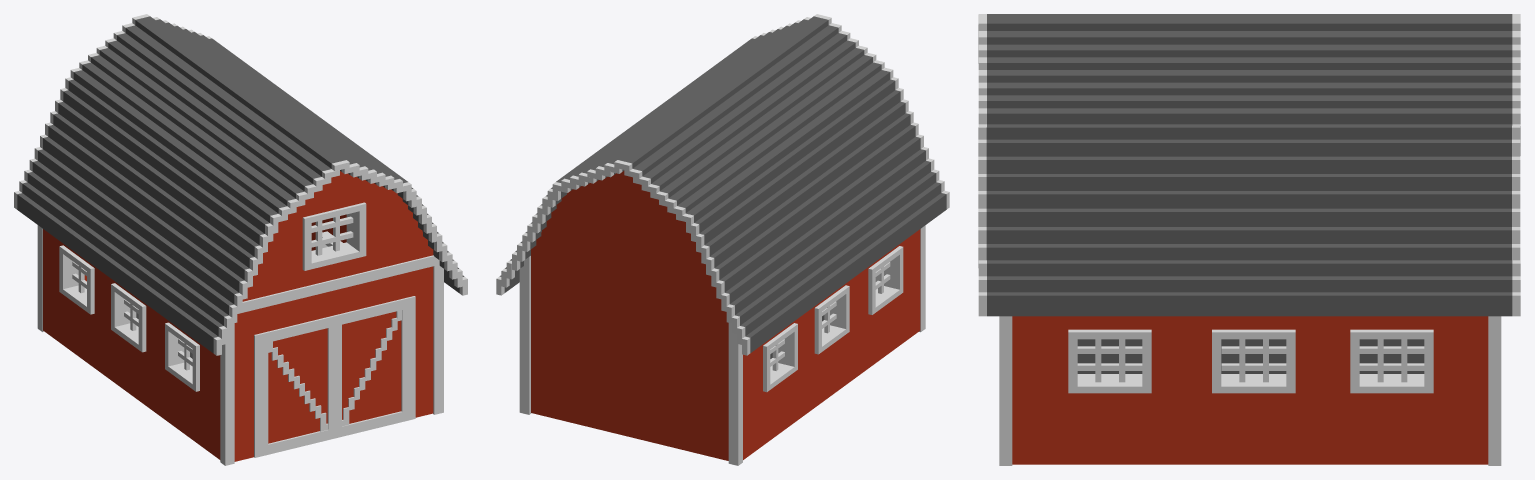
3 renders of one model, left to right at view 1: azimuth 30°, elevation 25°; view 2: azimuth 150°, elevation 25°; view 3: azimuth 270°, elevation 25°, orthographic. The views are drawn at different scales.
Visible parts, largest first — view 1: Plane.011, Cube.066, Plane.003, Cube.038, Cube.019, Cube.021, Cube.020, Cube.022, Cube.026, Cube.025, Cube.024, Cube.035 (+26 smaller); view 2: Plane.002, Cube.066, Cube.038, Cube.019, Cube.021, Cube.020, Cube.026, Cube.022, Cube.025, Cube.024, Cube.035, Cube.023 (+23 smaller); view 3: Cube.046, Cube.039, Cube.014, Cube.015, Cube.004, Cube.005, Cube.012, Cube.013, Cube.003, Cube.019, Cube.040, Cube.041 (+15 smaller).
Boxes of the visible parts, x1,y1,x2,y2 form: Plane.011: [234, 171, 433, 461]; Cube.066: [43, 229, 220, 459]; Plane.003: [254, 296, 415, 457]; Cube.038: [14, 191, 221, 355]; Cube.019: [132, 14, 349, 170]; Cube.021: [40, 134, 247, 299]; Cube.020: [45, 122, 252, 287]; Cube.022: [34, 147, 242, 311]; Cube.026: [55, 99, 262, 264]; Cube.025: [60, 88, 267, 252]; Cube.024: [50, 111, 257, 275]; Cube.035: [122, 23, 339, 178]; Plane.002: [531, 171, 728, 460]; Cube.066: [743, 229, 920, 459]; Cube.038: [742, 190, 949, 355]; Cube.019: [614, 14, 831, 170]; Cube.021: [716, 134, 923, 299]; Cube.020: [711, 122, 918, 287]; Cube.026: [701, 99, 908, 264]; Cube.022: [721, 147, 928, 311]; Cube.025: [696, 88, 903, 252]; Cube.024: [706, 111, 913, 275]; Cube.035: [624, 23, 841, 178]; Cube.023: [726, 158, 934, 323]; Cube.046: [1012, 316, 1488, 464]; Cube.039: [978, 292, 1520, 316]; Cube.014: [978, 208, 1520, 226]; Cube.015: [978, 191, 1520, 208]; Cube.004: [978, 139, 1520, 156]; Cube.005: [978, 156, 1520, 173]; Cube.012: [978, 244, 1520, 267]; Cube.013: [978, 227, 1520, 243]; Cube.003: [978, 174, 1520, 190]; Cube.019: [978, 14, 1520, 30]; Cube.040: [978, 276, 1520, 292]; Cube.041: [978, 260, 1520, 276].
Bounding box in the file's own units: 872 × 932 × 1219.
